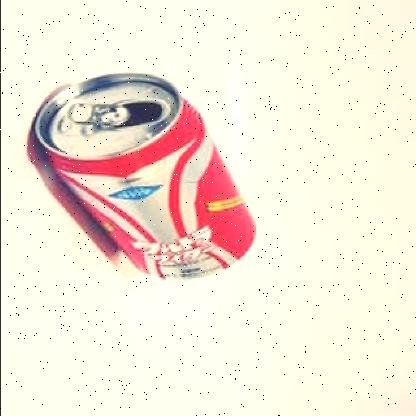Can: (29, 75, 259, 281)
